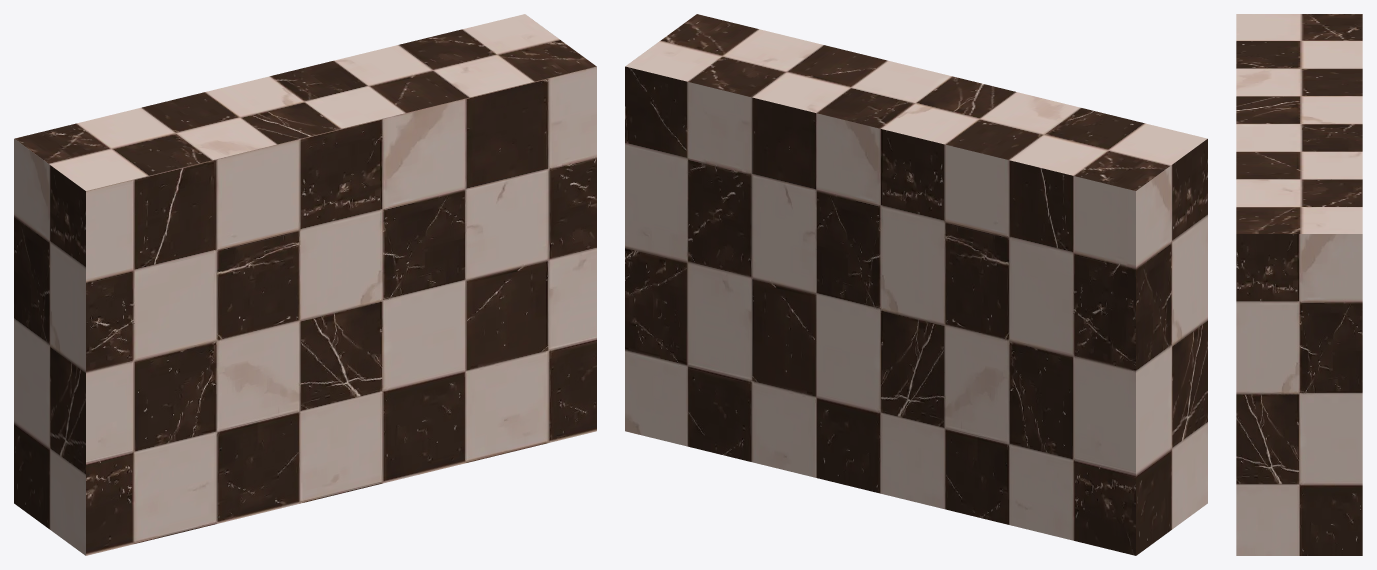
The model's file is checkerboard.glb.
The picture shows the model from 3 angles, left to right: view 1: azimuth 30°, elevation 25°; view 2: azimuth 150°, elevation 25°; view 3: azimuth 270°, elevation 25°; orthographic projection. The views are drawn at different scales.
Visible parts, largest first — view 1: Cube; view 2: Cube; view 3: Cube.
Part boxes in pixels (x1=…): Cube: x1=14, y1=14, x2=596, y2=555; Cube: x1=625, y1=14, x2=1207, y2=555; Cube: x1=1236, y1=14, x2=1362, y2=555.
Bounding box in the file's own units: 8.23 × 5.61 × 2.
Materials: 1 (1 with a texture image).
